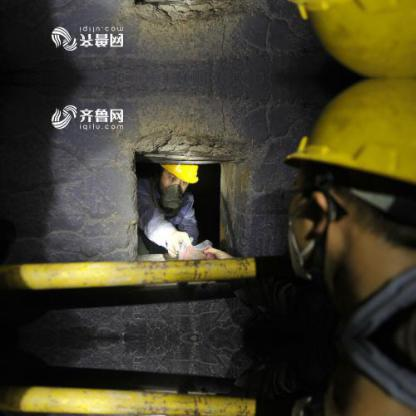helmet: (287, 76, 414, 312), (286, 0, 414, 77), (286, 360, 414, 414), (159, 161, 199, 190)
person: (129, 153, 244, 276)
